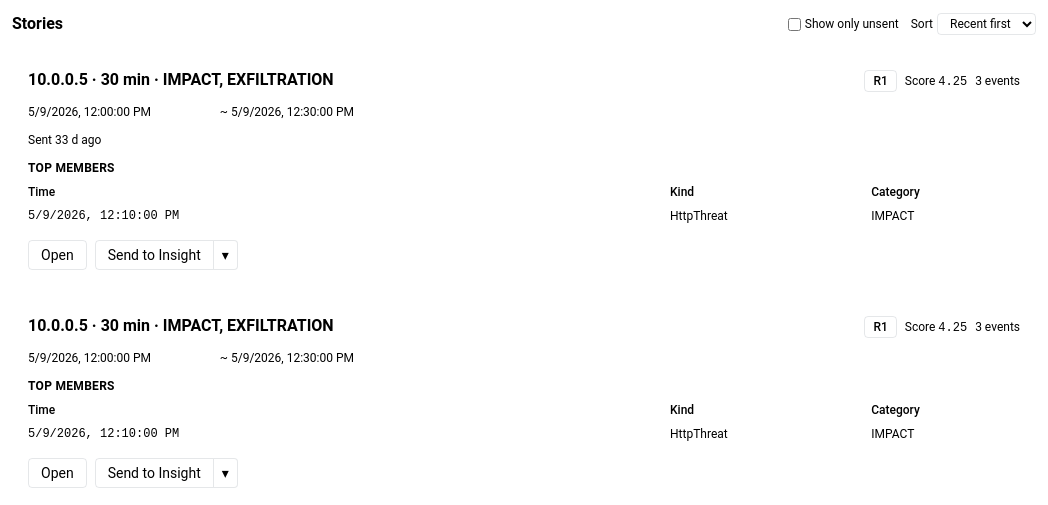
Test: TriageStoriesView — empty / list / sort / unsent-only filter › filters by unsent when 'Show only unsent' is enabled
Click the checkbox with test id "triage-stories-unsent-only". click: (794, 24)
box: [788,18,801,30]
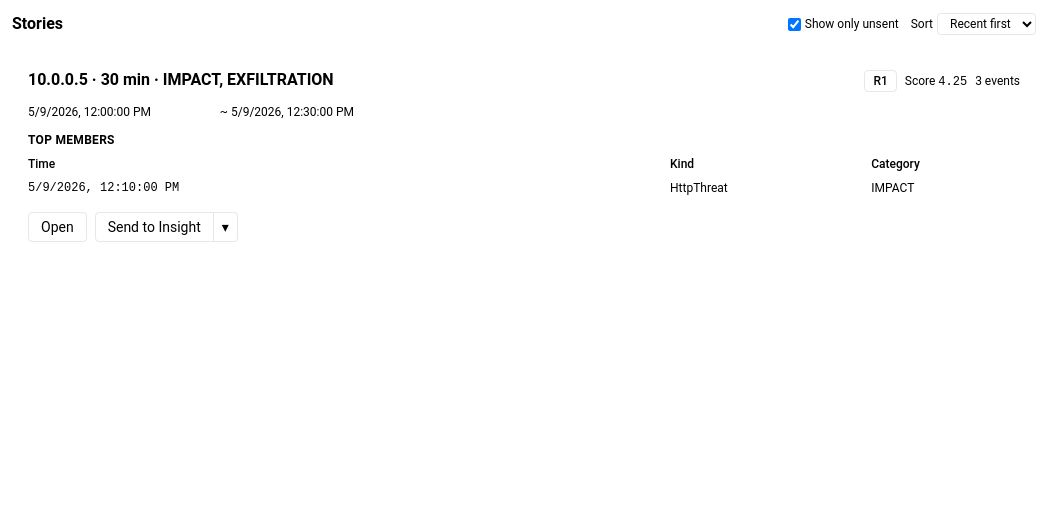
Expected: the number of elements with test id "triage-story-card" is 1, [12,52,1036,258]
